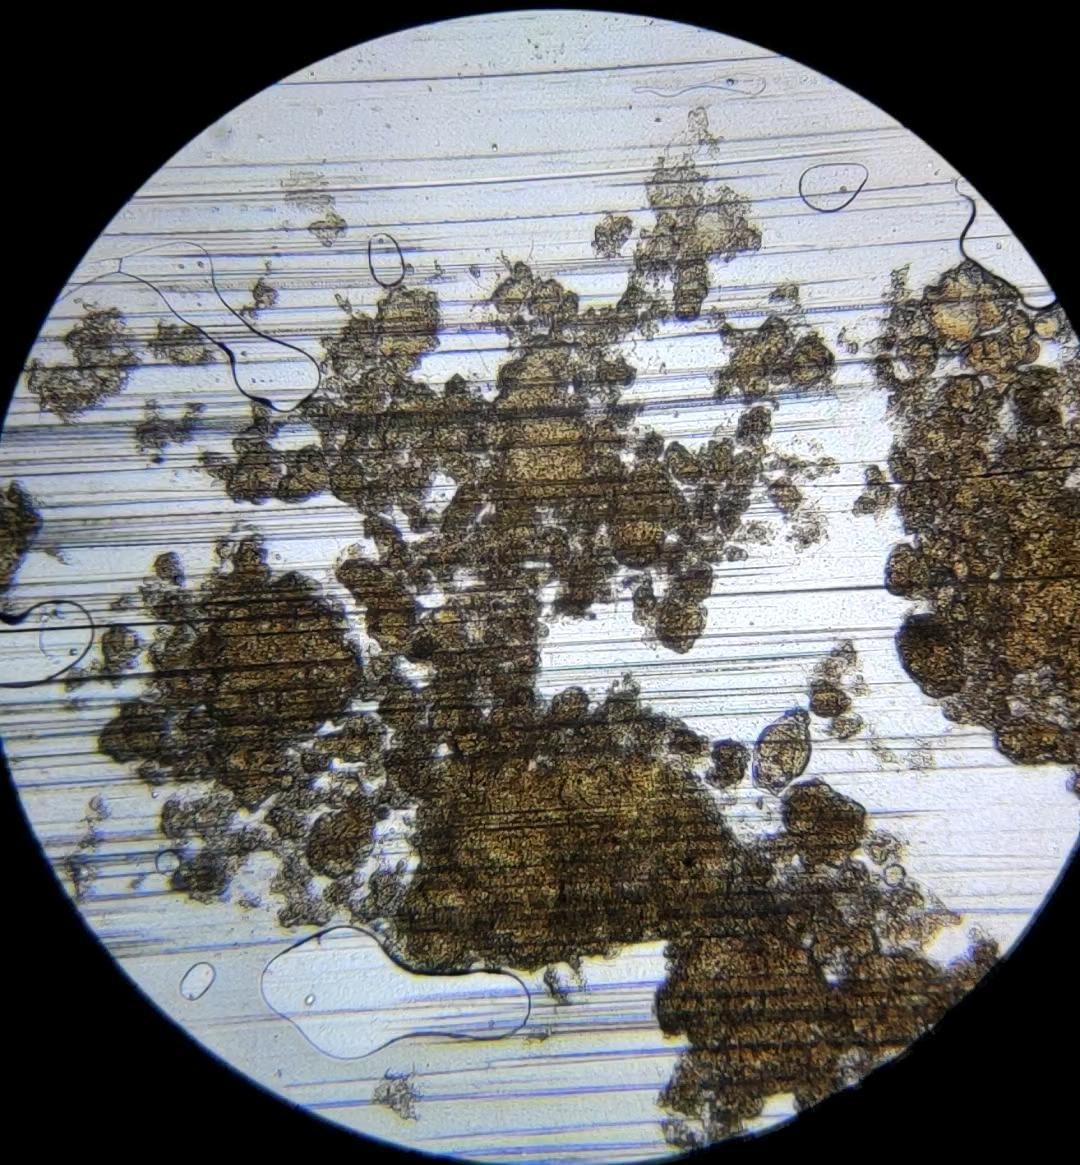Do: (752, 695, 816, 798)
